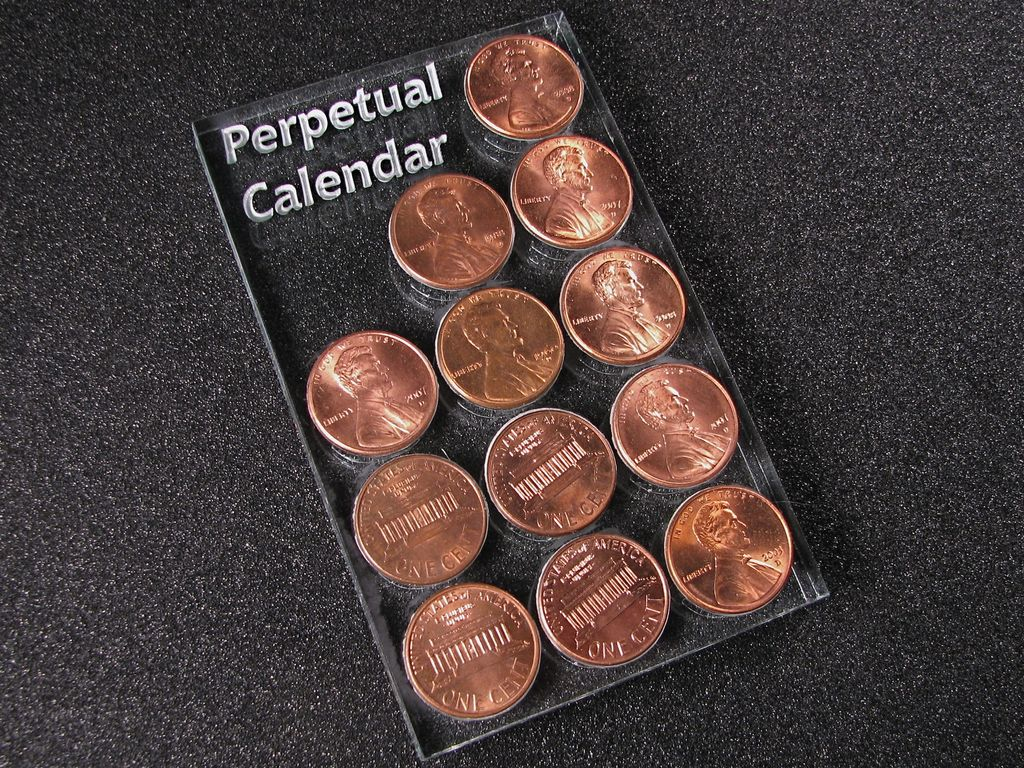Coin: (304, 33, 794, 721)
